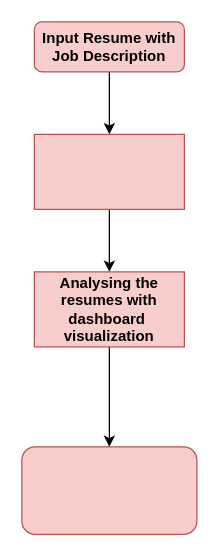
The diagram is 219 pixels wide and 556 high, and some of its shapes have lost their labels. The box of each missing label's shape, as (x1, y1, x2, y2) in pixels:
Run the Similarity index and get the score related to JD: (33, 133, 184, 209)
Screen the result and get the resume of top id with a slider: (21, 446, 197, 534)
